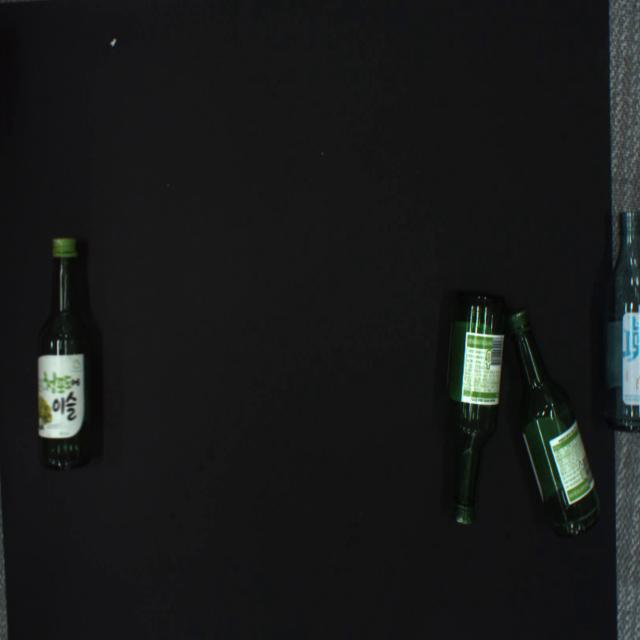soju-bottle: (508, 309, 601, 538), (445, 291, 507, 526), (38, 236, 91, 470), (601, 209, 640, 432)
